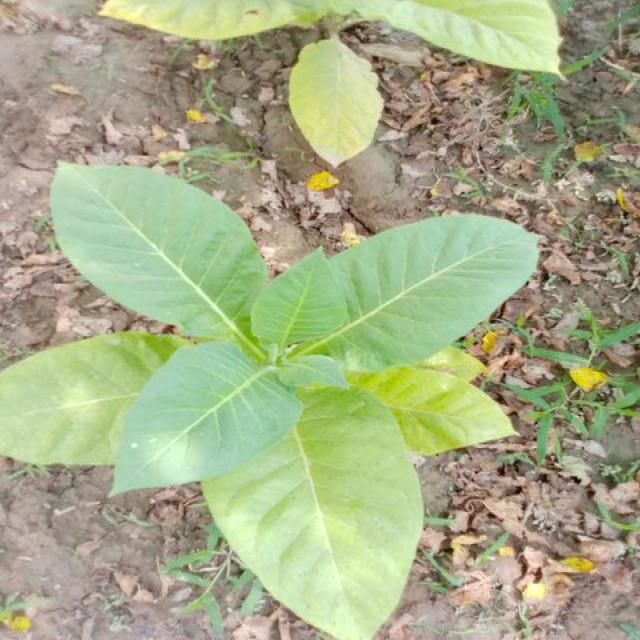crop: (4, 159, 544, 640)
